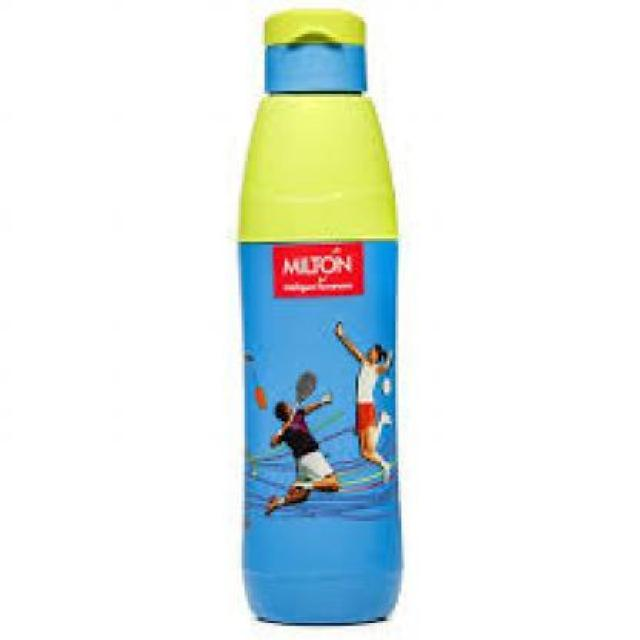Drinking: (231, 6, 418, 628)
